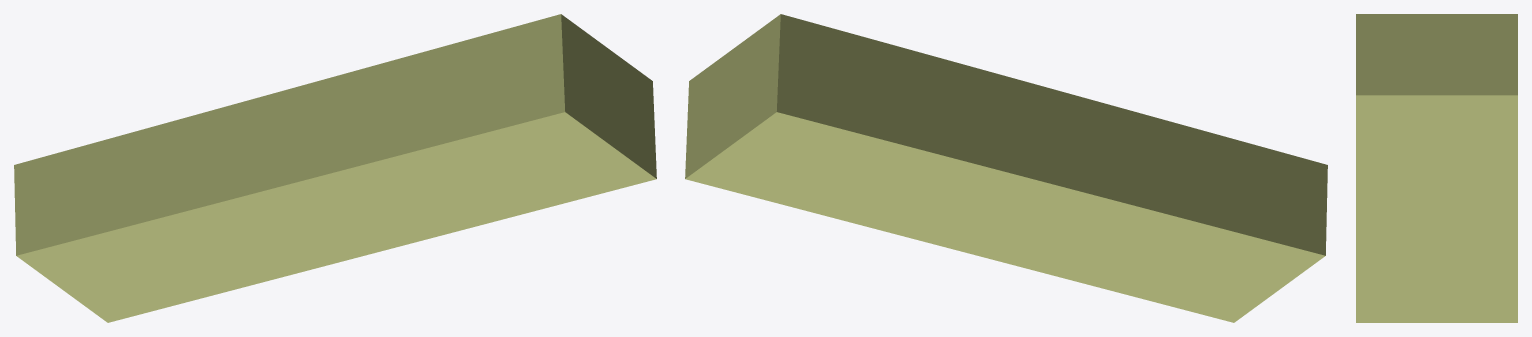
The picture shows the model from 3 angles, left to right: view 1: azimuth 30°, elevation 25°; view 2: azimuth 150°, elevation 25°; view 3: azimuth 270°, elevation 25°; orthographic projection. The views are drawn at different scales.
Visible parts, largest first — view 1: 0_1_2_0_3_3_1_0_0_3; view 2: 0_1_2_0_3_3_1_0_0_3; view 3: 0_1_2_0_3_3_1_0_0_3.
Part boxes in pixels (x1=…): 0_1_2_0_3_3_1_0_0_3: x1=14, y1=14, x2=656, y2=322; 0_1_2_0_3_3_1_0_0_3: x1=685, y1=14, x2=1327, y2=322; 0_1_2_0_3_3_1_0_0_3: x1=1356, y1=14, x2=1517, y2=322.
Size of the model in its own units: 20.81 by 3.93 by 6.
